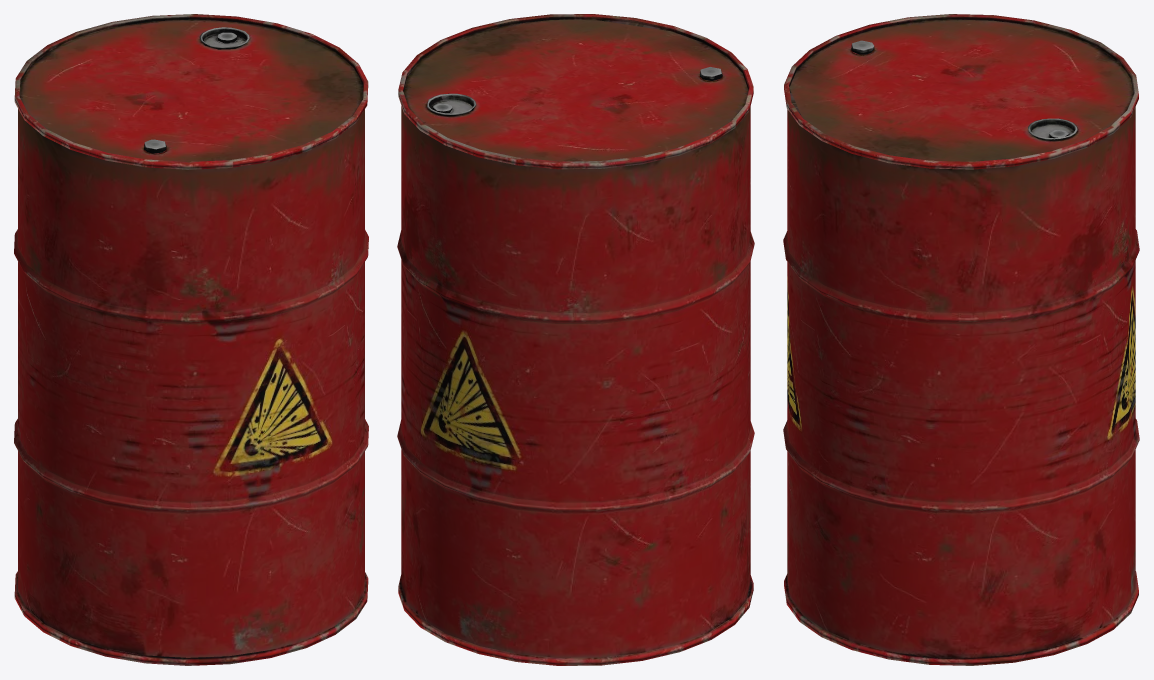
The model's file is Barrel_01.glb.
The picture shows the model from 3 angles, left to right: view 1: azimuth 30°, elevation 25°; view 2: azimuth 150°, elevation 25°; view 3: azimuth 270°, elevation 25°; orthographic projection.
Parts seen in each view (by area): view 1: Barrel_01; view 2: Barrel_01; view 3: Barrel_01.
Boxes of the visible parts, box(x1,y1,x2,y2) form: Barrel_01: box(14, 14, 368, 665); Barrel_01: box(397, 14, 754, 665); Barrel_01: box(783, 14, 1139, 665).
Size of the model in its own units: 0.5627 by 0.8789 by 0.5627.
Materials: 1 (1 with a texture image).
